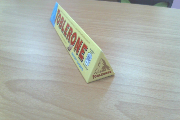Chocolate: (38, 1, 135, 93)
